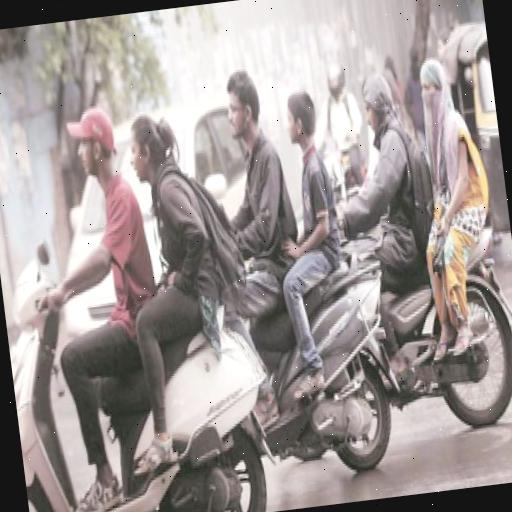no helmet: (0, 85, 181, 512), (190, 62, 330, 474), (316, 46, 454, 397)
